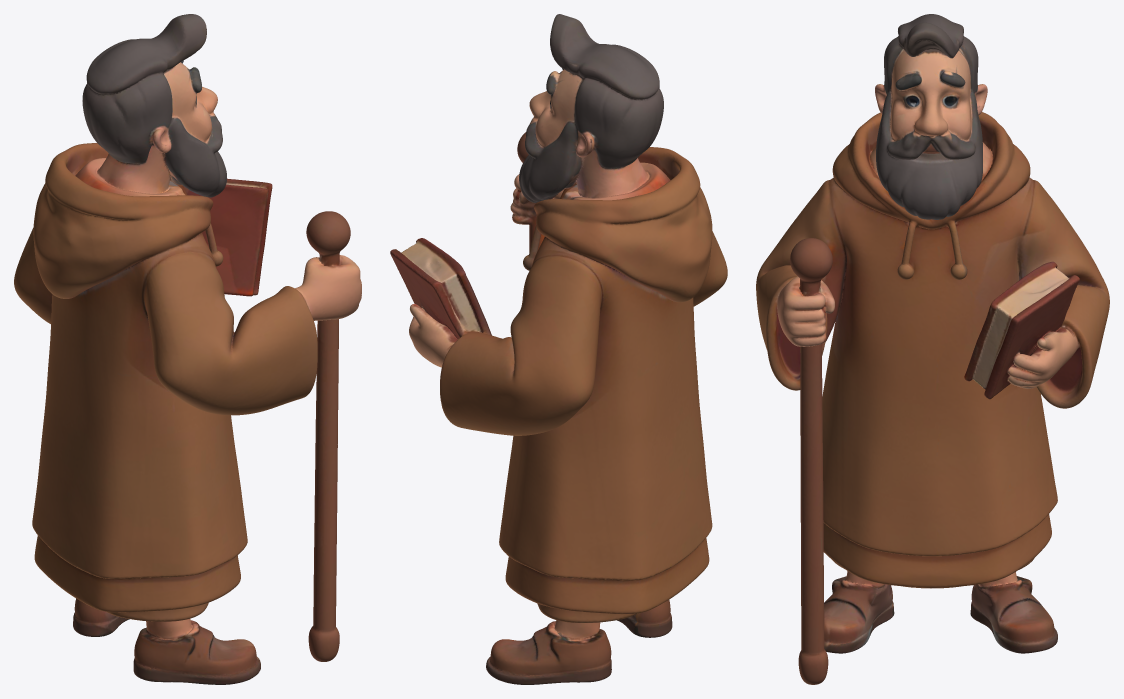
Rendered from converted_missionary 2.glb.
The picture shows the model from 3 angles, left to right: view 1: azimuth 30°, elevation 25°; view 2: azimuth 150°, elevation 25°; view 3: azimuth 270°, elevation 25°; orthographic projection.
Visible parts, largest first — view 1: tripo_node_a65dacf7-c0c8-4e7e-9876-93f34e199fec; view 2: tripo_node_a65dacf7-c0c8-4e7e-9876-93f34e199fec; view 3: tripo_node_a65dacf7-c0c8-4e7e-9876-93f34e199fec.
Part boxes in pixels (x1,y1,x2,y2): tripo_node_a65dacf7-c0c8-4e7e-9876-93f34e199fec: [14, 14, 361, 684]; tripo_node_a65dacf7-c0c8-4e7e-9876-93f34e199fec: [390, 14, 727, 684]; tripo_node_a65dacf7-c0c8-4e7e-9876-93f34e199fec: [756, 14, 1109, 684].
Size of the model in its own units: 0.4577 by 1 by 0.5175.
Materials: 1 (1 with a texture image).
